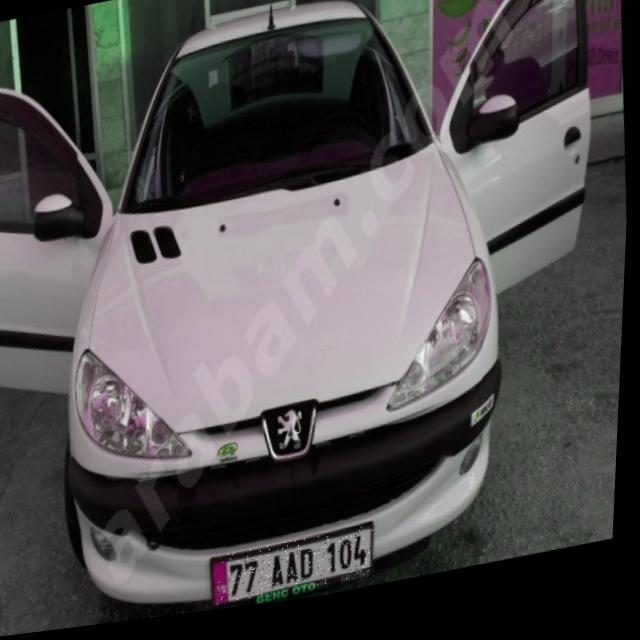license_plate: (215, 534, 381, 612)
